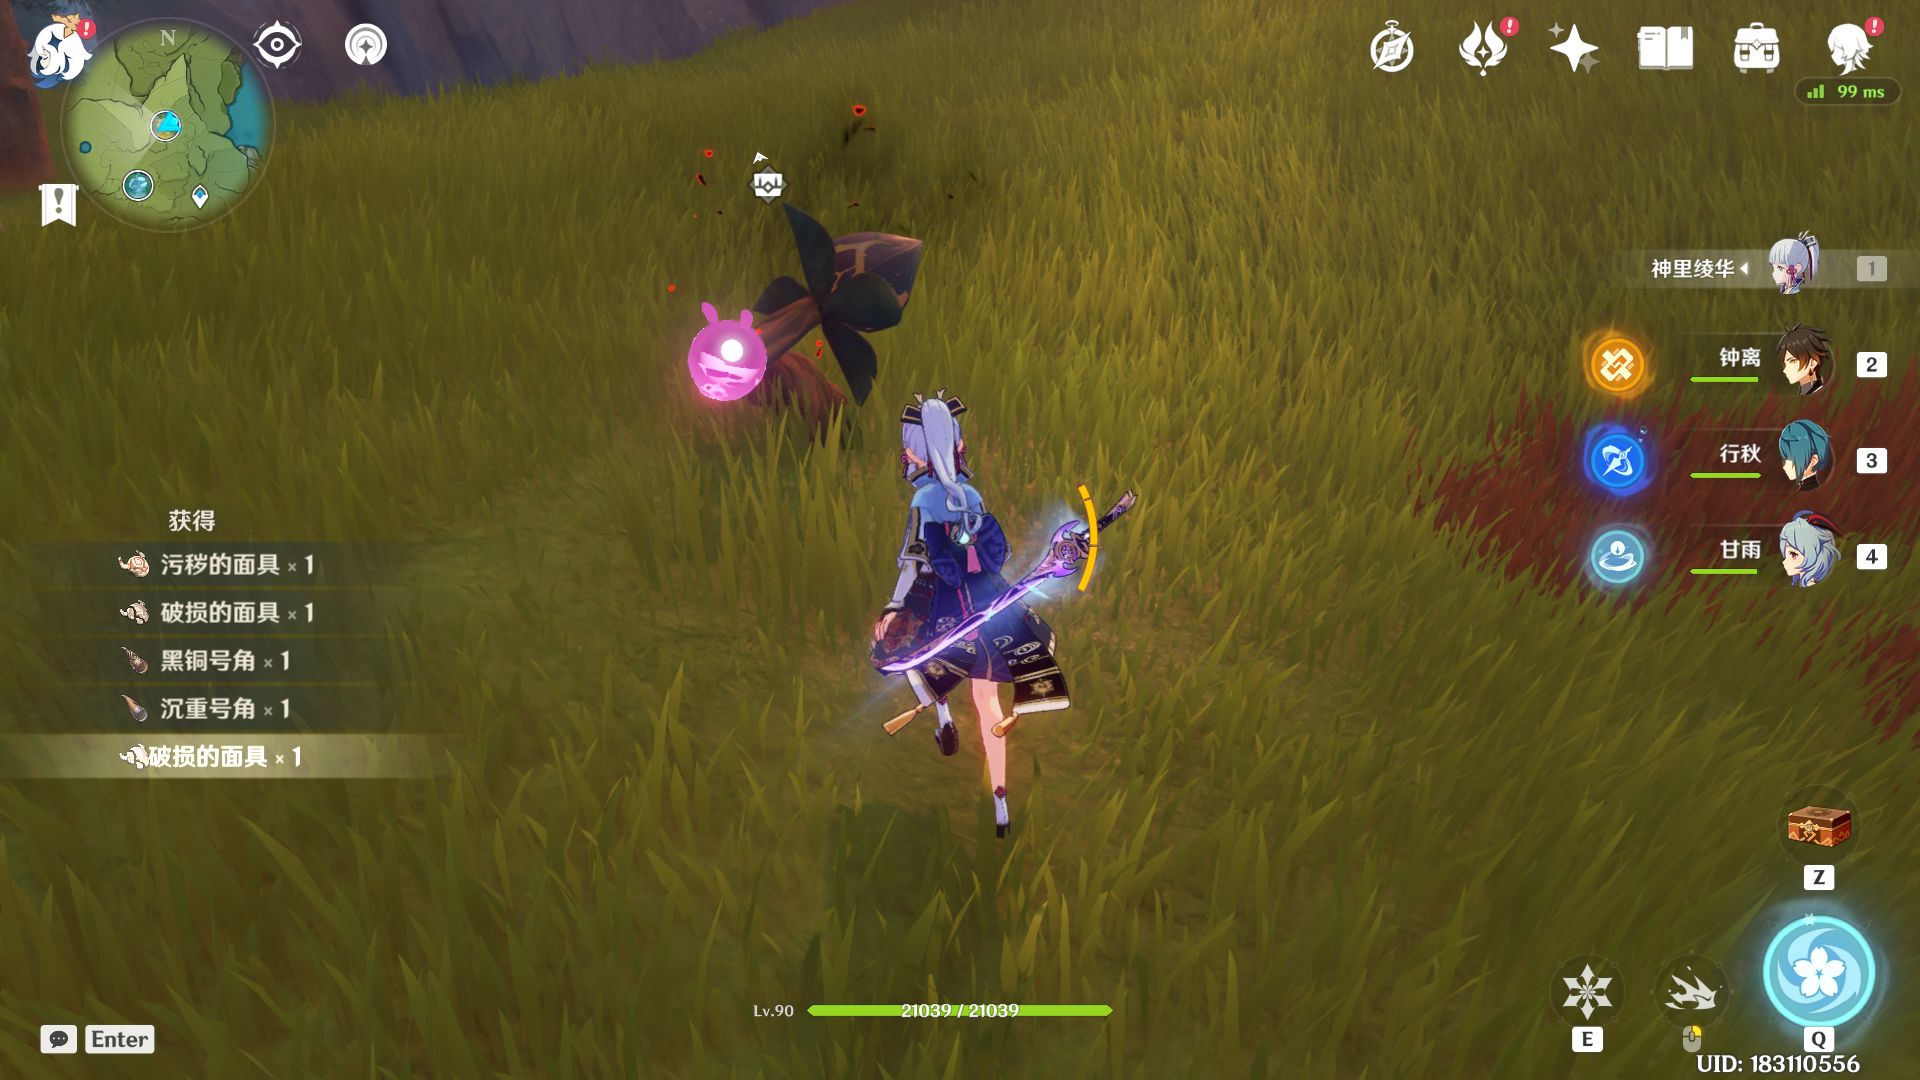character: (829, 380, 1137, 877)
